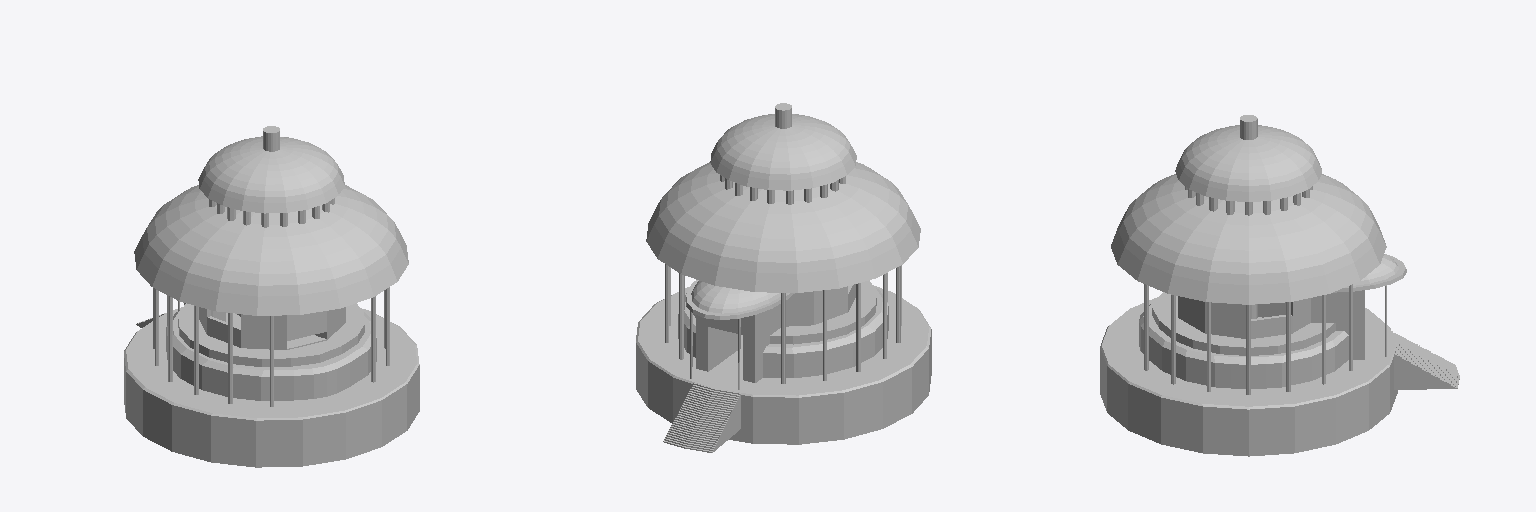
Rendered from House For SPP.obj.
The picture shows the model from 3 angles: view 1: azimuth 30°, elevation 25°; view 2: azimuth 150°, elevation 25°; view 3: azimuth 270°, elevation 25°; orthographic projection.
Parts seen in each view (by area): view 1: House_LOD0 House; view 2: House_LOD0 House, textureEditorIsolateSelectSet House_LOD0 House; view 3: House_LOD0 House, textureEditorIsolateSelectSet House_LOD0 House.
Boxes of the visible parts, x1=… form: House_LOD0 House: x1=124, y1=126, x2=419, y2=467; House_LOD0 House: x1=636, y1=103, x2=931, y2=452; textureEditorIsolateSelectSet House_LOD0 House: x1=696, y1=310, x2=769, y2=382; House_LOD0 House: x1=1100, y1=115, x2=1459, y2=456; textureEditorIsolateSelectSet House_LOD0 House: x1=1335, y1=290, x2=1364, y2=359.
Bounding box in the file's own units: 27.92 × 28.52 × 33.78.